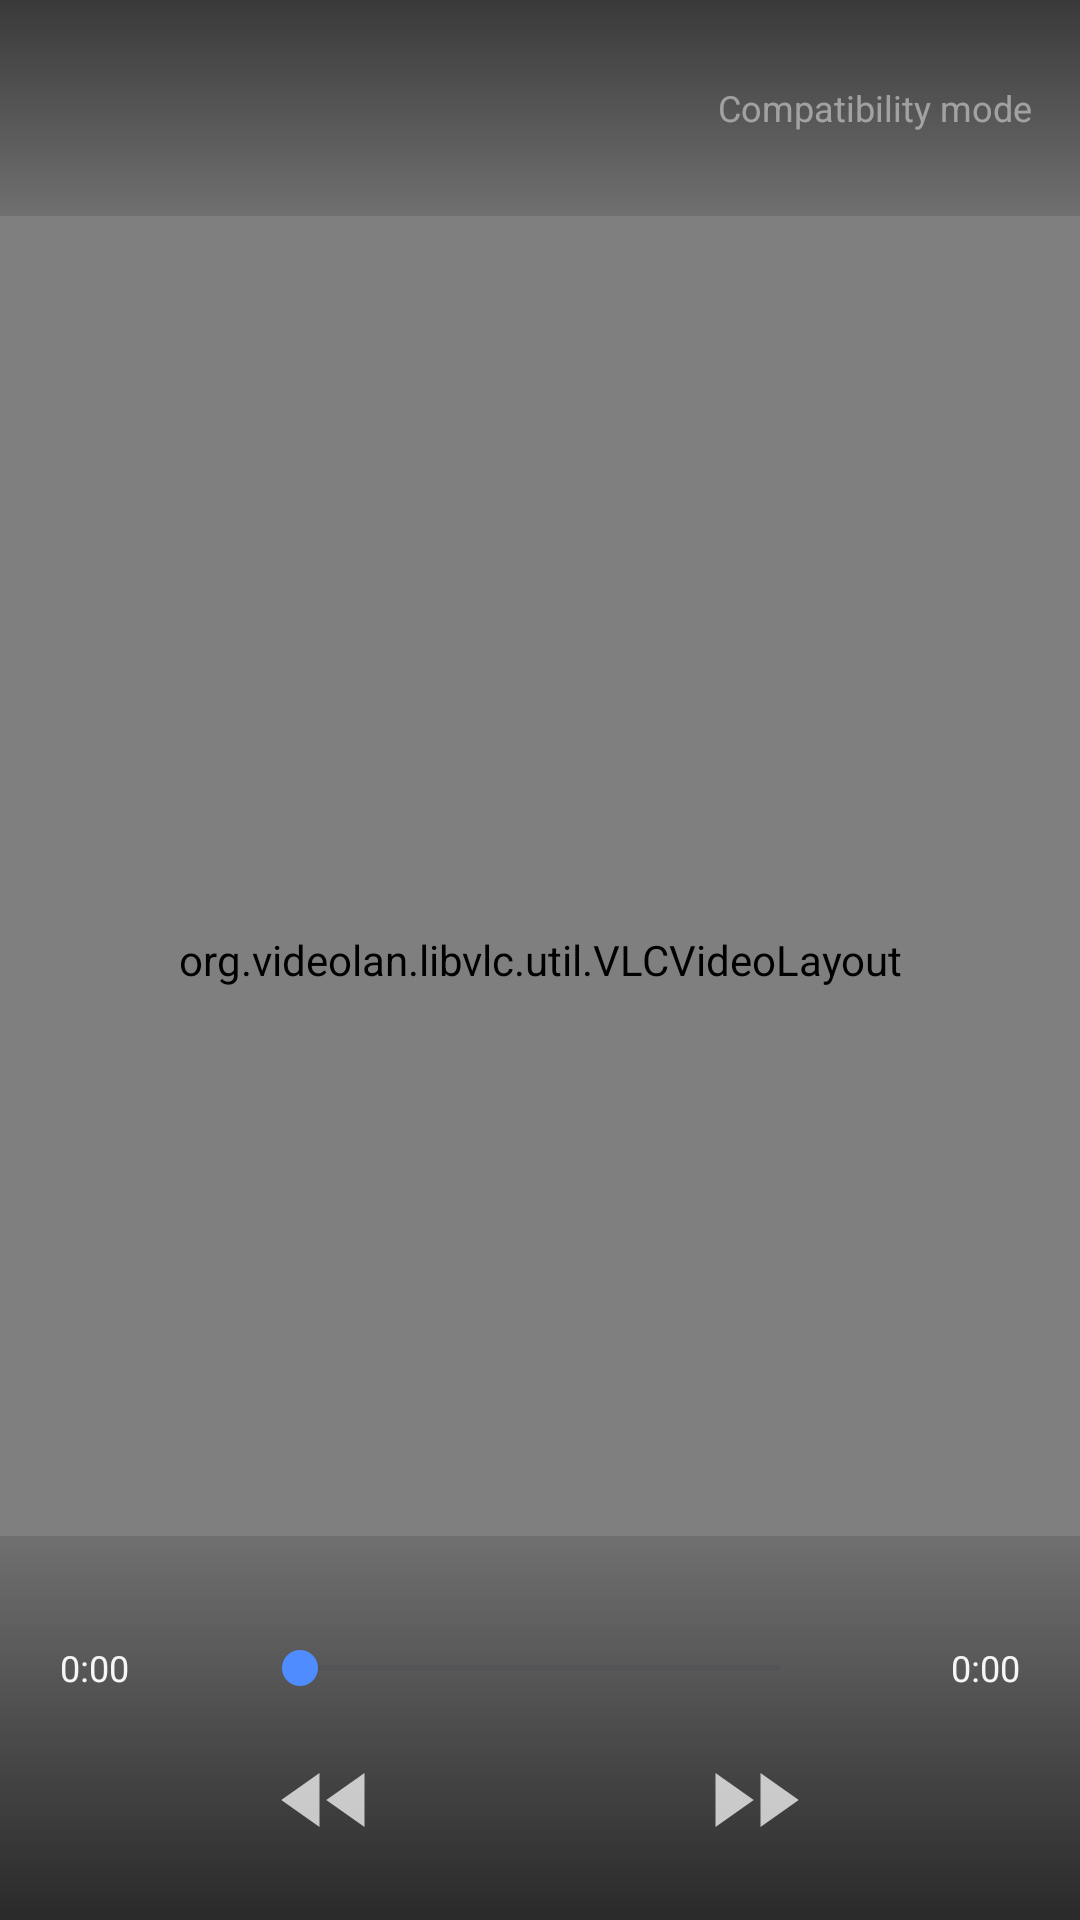

Screen size 1080x1920. Icon name, then its center in pixels as [x,y]:
Forward 10 seconds: [756,1777]
Rewind 10 seconds: [324,1777]
